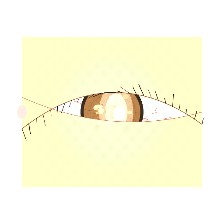corneal_ulcer: (86, 88, 147, 137)
